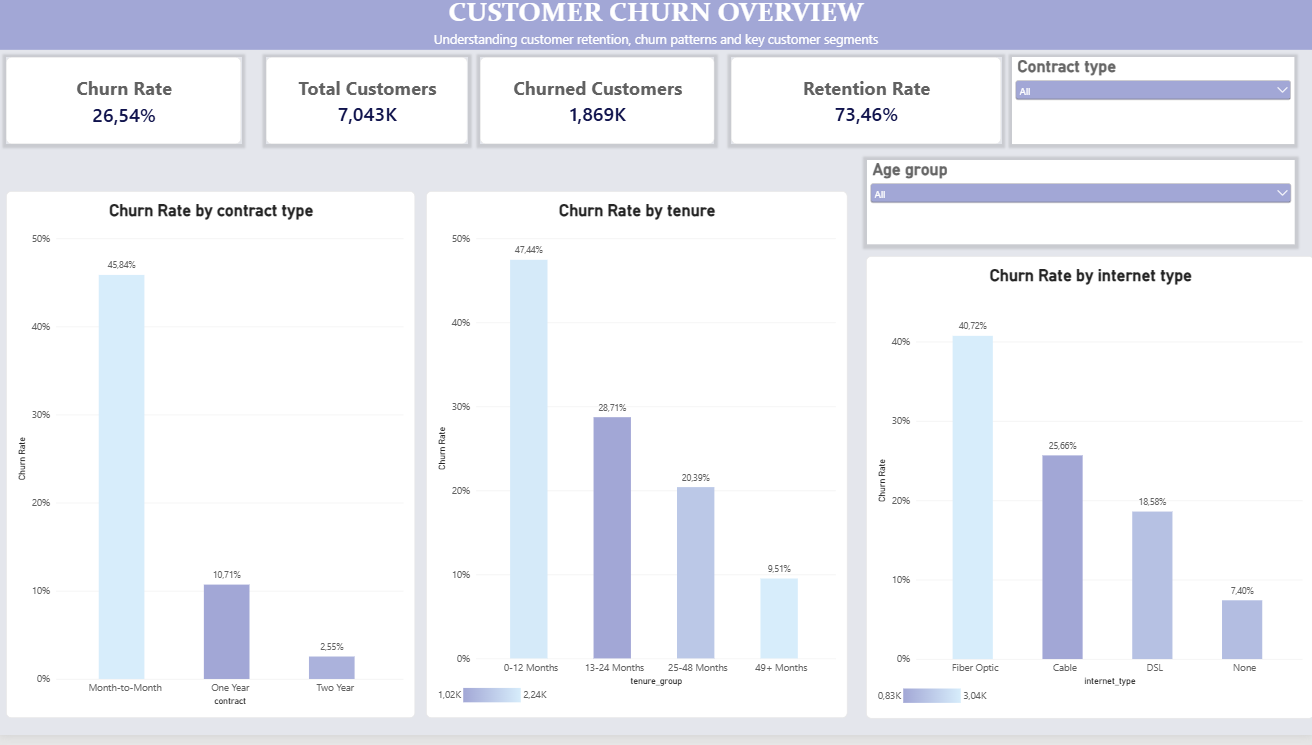

What the dashboard file says about the page in this screenshot:
{"tool":"powerbi","page":{"name":"Churn overview","canvas":[1920,1080],"ordinal":0},"visuals":[{"type":"cardVisual","fields":{"Data":["public churn_analysis.Total Customers"]},"box":[391.6,90.7,294.5,127.4],"z":0},{"type":"cardVisual","fields":{"Data":["public churn_analysis.Churned Customers"]},"box":[703.7,90.7,342.3,127.4],"z":1000},{"type":"cardVisual","title":"CHURN RATE","fields":{"Data":["public churn_analysis.Churn Rate"]},"box":[11.1,90.7,343.9,127.4],"z":2000},{"type":"cardVisual","fields":{"Data":["public churn_analysis.Retention Rate"]},"box":[1069.9,90.7,394.8,127.4],"z":3000},{"type":"clusteredColumnChart","title":"Churn Rate by contract type","fields":{"Category":["public churn_analysis.contract"],"Y":["public churn_analysis.Churn Rate"]},"box":[11.1,286.6,597,769],"z":4000},{"type":"clusteredColumnChart","title":"Churn Rate by tenure","fields":{"Category":["public churn_analysis.tenure_group"],"Y":["public churn_analysis.Churn Rate"]},"box":[624.1,286.6,614.5,769],"z":5000},{"type":"clusteredColumnChart","title":"Churn Rate by internet type","fields":{"Category":["public churn_analysis.internet_type"],"Y":["public churn_analysis.Churn Rate"]},"box":[1265.7,380.5,654.3,675],"z":6000},{"type":"slicer","fields":{"Values":["public churn_analysis.contract"]},"box":[1479,90.7,412.3,127.4],"z":7000},{"type":"slicer","fields":{"Values":["public churn_analysis.age_group"]},"box":[1267.3,240.4,624.1,122.6],"z":8000},{"type":"textbox","title":"CUSTOMER CHURN OVERVIEW","box":[0,0,1920,80.2],"z":9000}]}

Visuals, with their boxes in screenshot pixels (x1, y1, x2, y2), scaled from the page's 1920x1080 canvas onto the 1312x745 screenshot:
cardVisual - public churn_analysis.Total Customers: box=[268, 63, 469, 150]
cardVisual - public churn_analysis.Churned Customers: box=[481, 63, 715, 150]
"CHURN RATE" cardVisual: box=[8, 63, 243, 150]
cardVisual - public churn_analysis.Retention Rate: box=[731, 63, 1001, 150]
"Churn Rate by contract type" clusteredColumnChart: box=[8, 198, 416, 728]
"Churn Rate by tenure" clusteredColumnChart: box=[426, 198, 846, 728]
"Churn Rate by internet type" clusteredColumnChart: box=[865, 262, 1311, 728]
slicer - public churn_analysis.contract: box=[1011, 63, 1292, 150]
slicer - public churn_analysis.age_group: box=[866, 166, 1292, 250]
"CUSTOMER CHURN OVERVIEW" textbox: box=[0, 0, 1311, 55]
